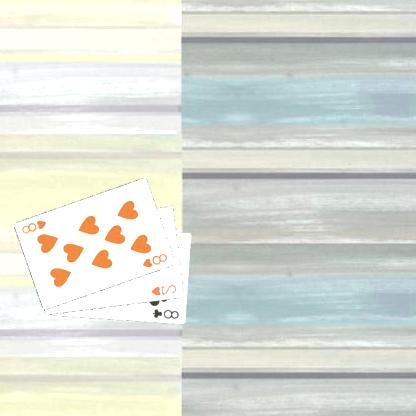2H: (150, 282, 180, 297)
8C: (151, 306, 182, 320)
8H: (21, 218, 50, 236), (142, 251, 170, 269)
